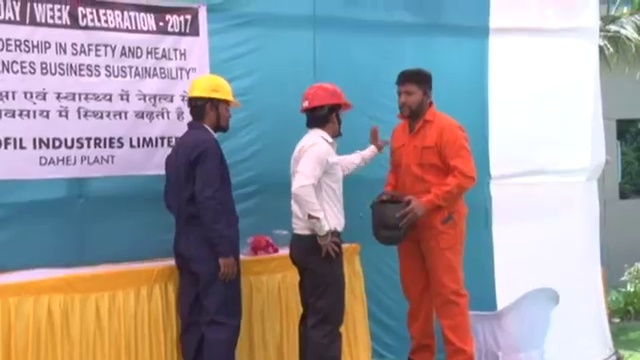helmet: (185, 73, 241, 110), (299, 78, 355, 112)
helmet_off: (393, 68, 436, 121)
helmet_on: (298, 78, 356, 140), (184, 71, 241, 134)
person: (384, 69, 479, 360), (286, 79, 381, 360), (161, 73, 244, 360)
